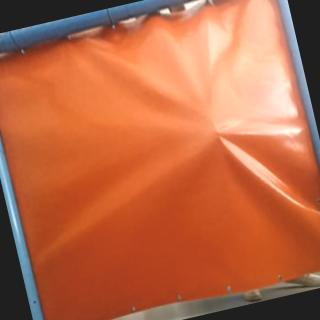Hit-hRxx: (208, 121, 230, 142)
